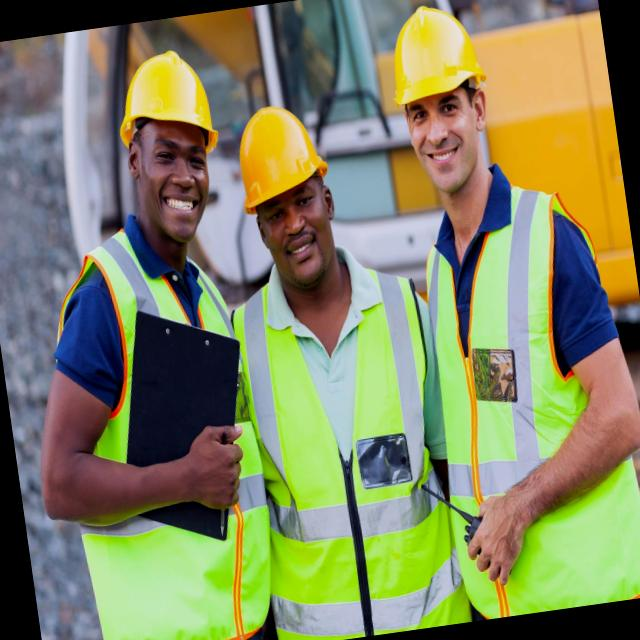helmet: (379, 0, 496, 118), (107, 42, 224, 158), (220, 95, 330, 212)
no-goggles: (118, 126, 220, 195), (394, 88, 494, 150), (236, 187, 341, 241)
vest: (411, 179, 640, 620), (224, 249, 477, 640), (46, 222, 280, 640)
